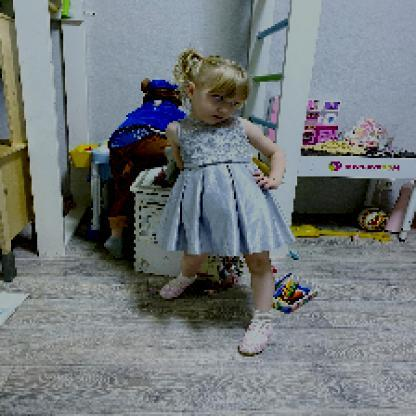child: (159, 45, 297, 357)
